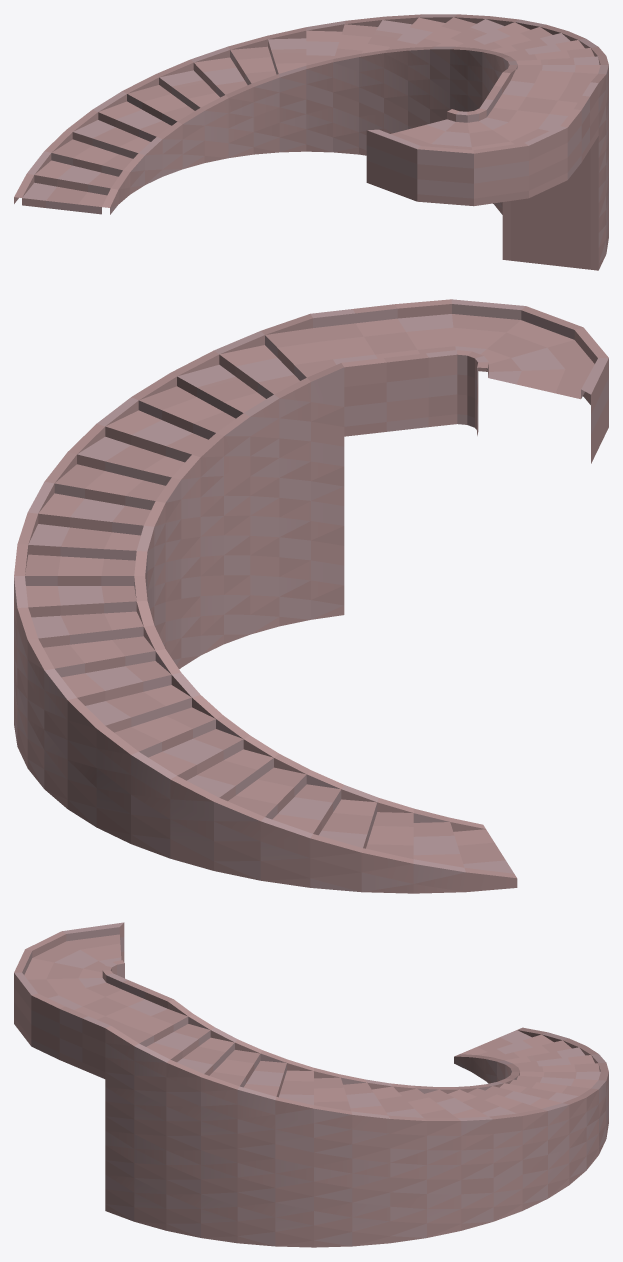
Rendered from Map_SpiralStairs.fbx.
The picture shows the model from 3 angles, top to bottom: view 1: azimuth 30°, elevation 25°; view 2: azimuth 150°, elevation 25°; view 3: azimuth 270°, elevation 25°; orthographic projection. The views are drawn at different scales.
Parts seen in each view (by area): view 1: MSH_Spiral_Stairs12, MSH_PathStairs_Narrow_Medium19; view 2: MSH_Spiral_Stairs12, MSH_PathStairs_Narrow_Medium19; view 3: MSH_Spiral_Stairs12, MSH_PathStairs_Narrow_Medium19.
Boxes of the visible parts, bbox=[...] form: MSH_Spiral_Stairs12: bbox=[14, 14, 608, 270]; MSH_PathStairs_Narrow_Medium19: bbox=[366, 72, 598, 206]; MSH_Spiral_Stairs12: bbox=[14, 314, 517, 893]; MSH_PathStairs_Narrow_Medium19: bbox=[310, 299, 608, 463]; MSH_Spiral_Stairs12: bbox=[105, 999, 608, 1247]; MSH_PathStairs_Narrow_Medium19: bbox=[14, 922, 173, 1078].
Size of the model in its own units: 1560 by 625 by 1843.
